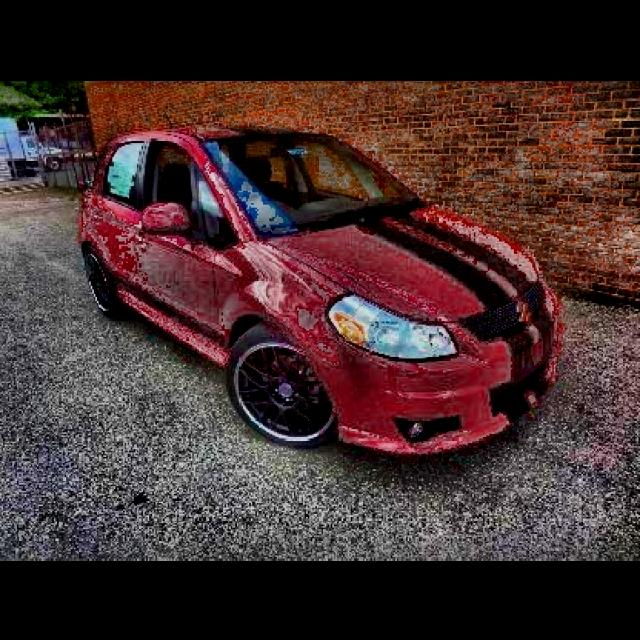maroon: (77, 119, 561, 452)
